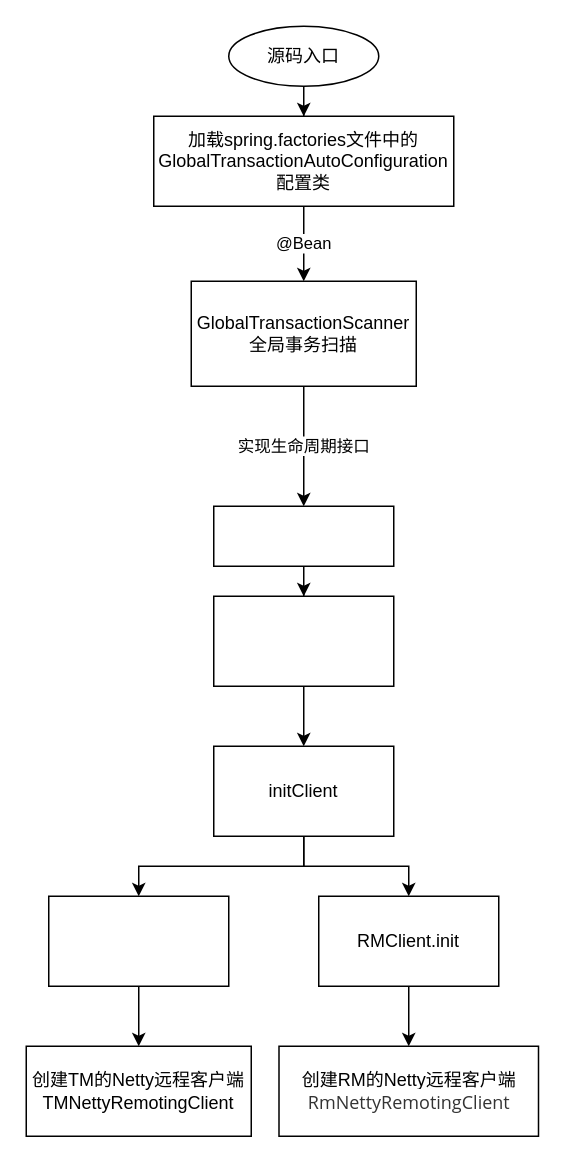
This 566x1163 diagram has some shape labels left out. The shapes that lost their labels are listed below. From the top down, each one's centre as x and y in pixels, then its label:
the point at 303,535: InitializingBean
the point at 303,640: 执行对应方法 afterPropertiesSet
the point at 138,940: TMClient.init
